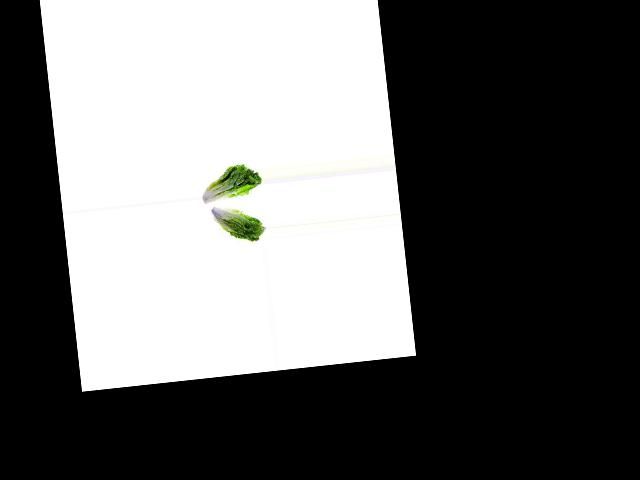lettuce: (204, 201, 265, 247)
